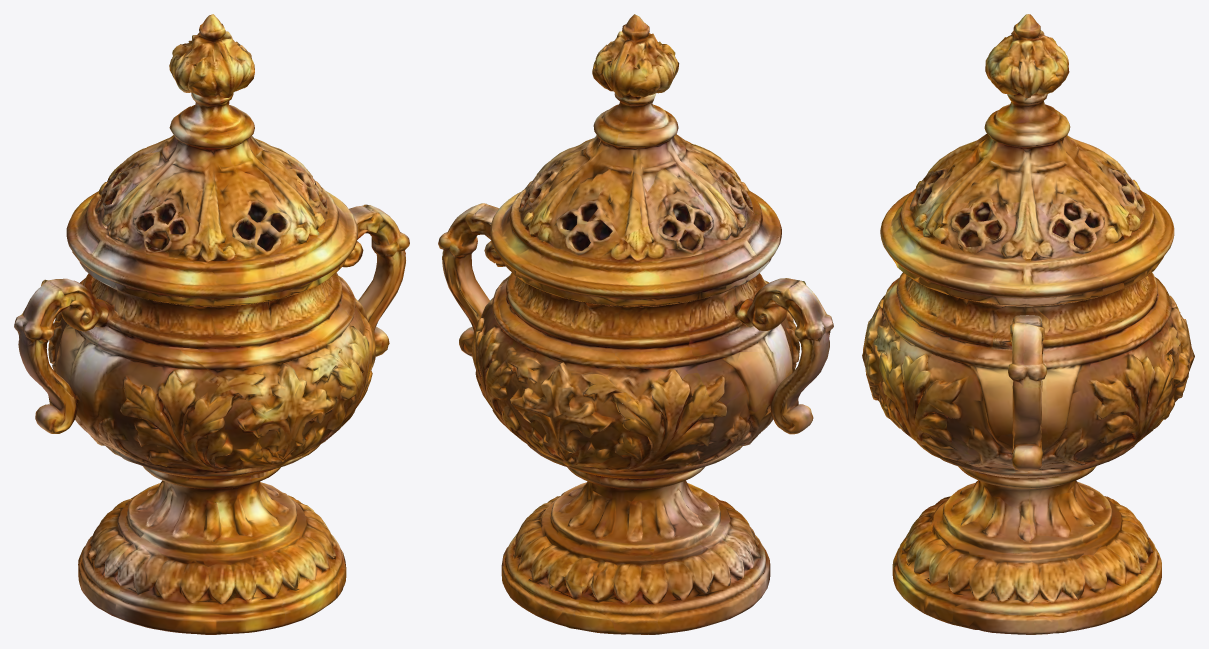
Rendered from frankincense.glb.
The picture shows the model from 3 angles, left to right: view 1: azimuth 30°, elevation 25°; view 2: azimuth 150°, elevation 25°; view 3: azimuth 270°, elevation 25°; orthographic projection.
Parts seen in each view (by area): view 1: tripo_node_05c8403f-cfb8-443d-9427-79788ad9d023; view 2: tripo_node_05c8403f-cfb8-443d-9427-79788ad9d023; view 3: tripo_node_05c8403f-cfb8-443d-9427-79788ad9d023.
Boxes of the visible parts, x1,y1,x2,y2 form: tripo_node_05c8403f-cfb8-443d-9427-79788ad9d023: [14, 14, 409, 634]; tripo_node_05c8403f-cfb8-443d-9427-79788ad9d023: [438, 14, 833, 634]; tripo_node_05c8403f-cfb8-443d-9427-79788ad9d023: [862, 14, 1194, 634].
Size of the model in its own units: 0.6936 by 0.9772 by 0.521.
Materials: 1 (1 with a texture image).
